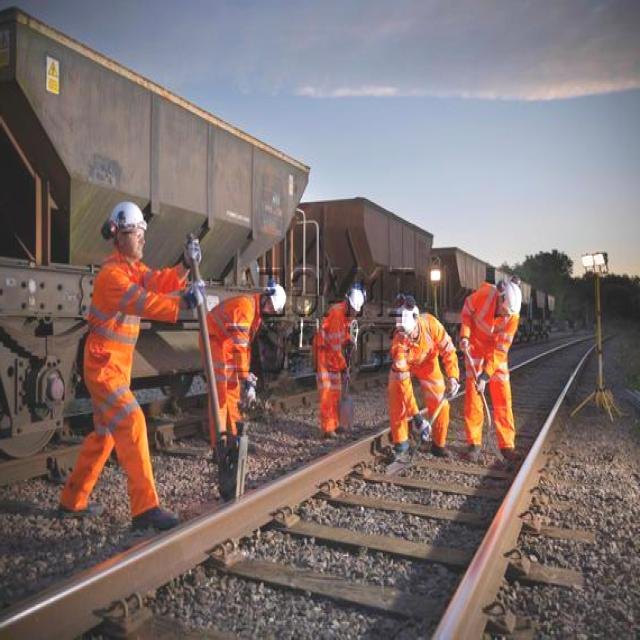hand_glove: (408, 413, 434, 450), (182, 275, 206, 311), (183, 233, 204, 268), (240, 378, 262, 410), (476, 372, 494, 401), (444, 377, 461, 407)
head_helmet: (106, 202, 150, 233), (498, 281, 526, 317), (393, 298, 418, 332), (265, 286, 290, 311), (345, 287, 367, 311)
person: (59, 208, 188, 517), (203, 281, 289, 455), (455, 273, 523, 451), (388, 304, 454, 450), (314, 292, 363, 436)
shoes: (128, 500, 182, 536), (426, 433, 454, 460), (496, 438, 522, 465), (462, 438, 483, 467)
vest: (91, 262, 156, 341), (208, 297, 255, 347), (464, 292, 497, 361), (397, 327, 437, 368), (318, 314, 355, 356)
